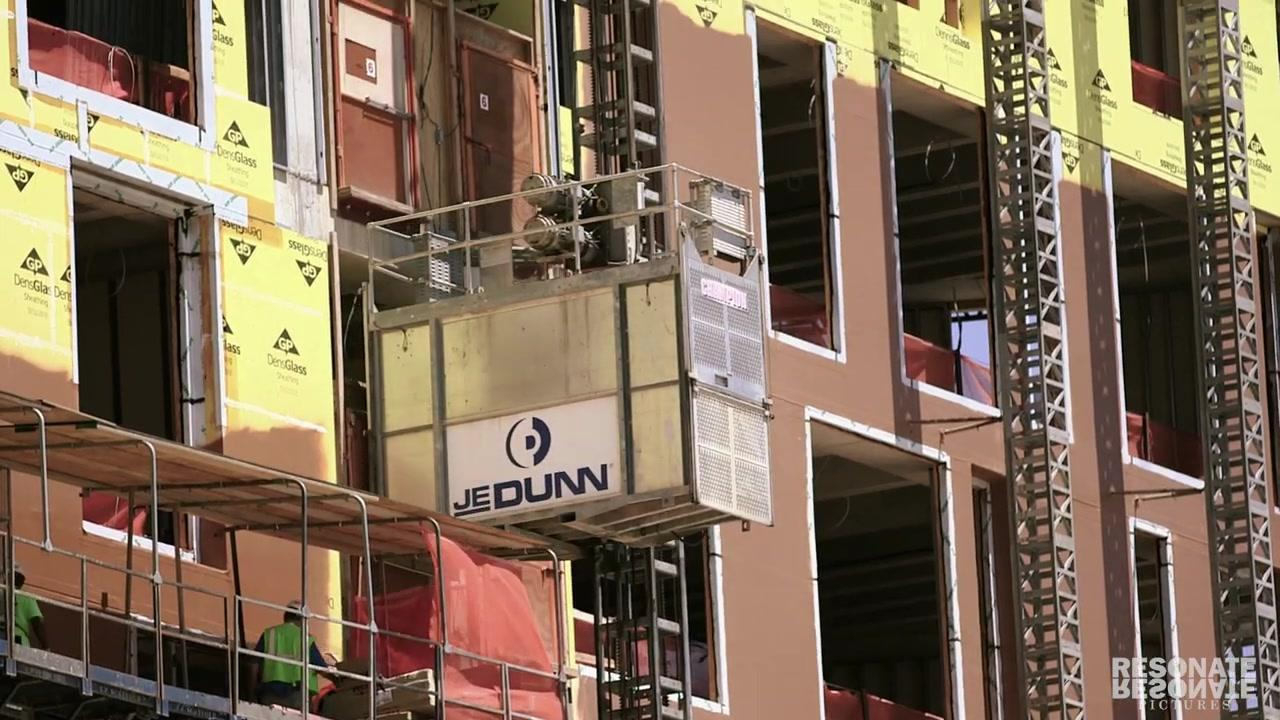vest: (261, 621, 320, 691)
